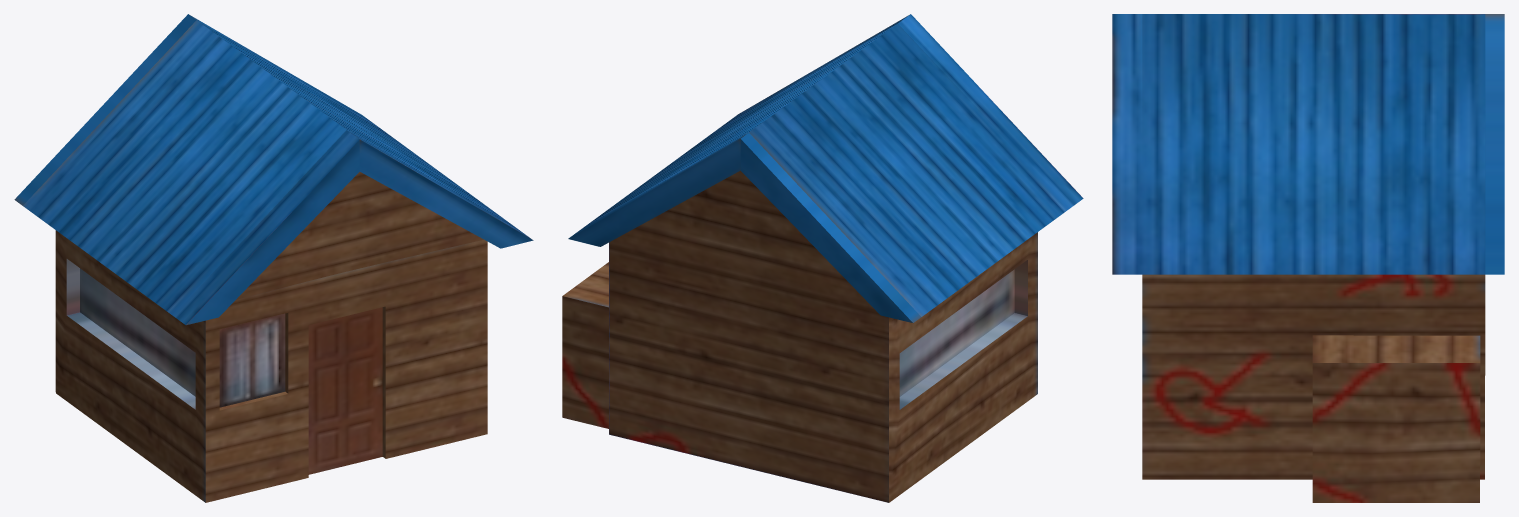
The model's file is house_003.fbx.
3 views of the same model, side by side, from view 1: azimuth 30°, elevation 25°; view 2: azimuth 150°, elevation 25°; view 3: azimuth 270°, elevation 25° (orthographic). The views are drawn at different scales.
Visible parts, largest first — view 1: house.001; view 2: house.001; view 3: house.001.
Part boxes in pixels (<box>): house.001: <box>14,14,533,502</box>; house.001: <box>562,14,1083,502</box>; house.001: <box>1112,14,1504,502</box>.
Bounding box in the file's own units: 112 × 99.76 × 91.61.
1 material, 1 textured.
